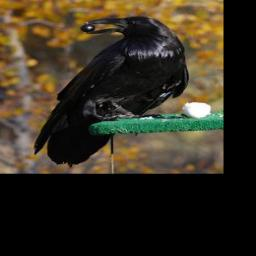Crow: (33, 16, 190, 167)
